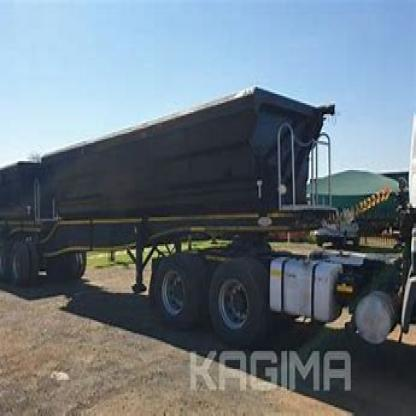dump_truck: (6, 74, 415, 358)
